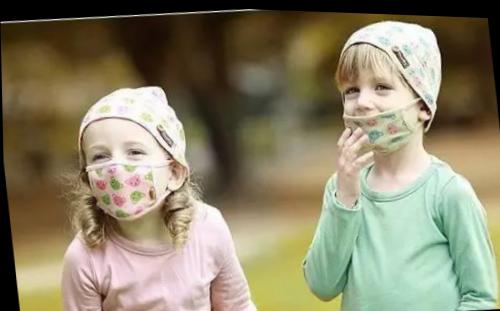OK: (83, 133, 169, 220)
WRONG: (334, 64, 421, 153)
